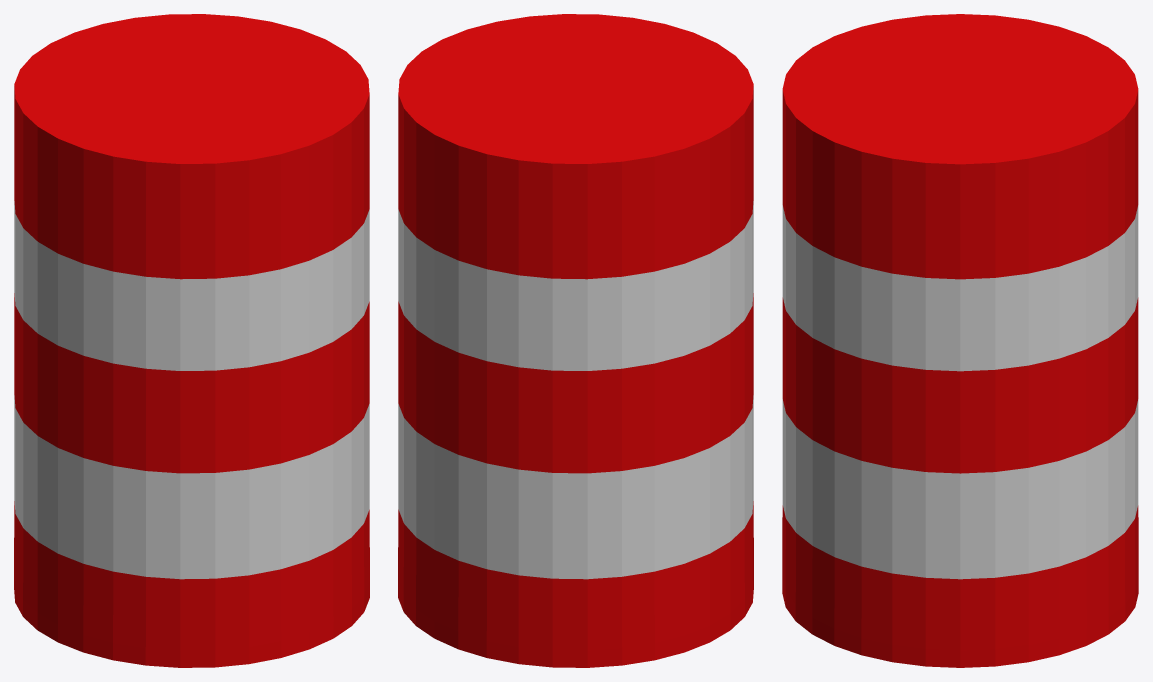
The model's file is gazebo_world_5_Circle.002.dae.
The picture shows the model from 3 angles, left to right: view 1: azimuth 30°, elevation 25°; view 2: azimuth 150°, elevation 25°; view 3: azimuth 270°, elevation 25°; orthographic projection.
Parts seen in each view (by area): view 1: Circle.002; view 2: Circle.002; view 3: Circle.002.
Boxes of the visible parts, x1,y1,x2,y2 form: Circle.002: [14, 14, 369, 667]; Circle.002: [398, 14, 753, 667]; Circle.002: [782, 14, 1138, 667].
Bounding box in the file's own units: 0.7776 × 0.7776 × 1.21.
